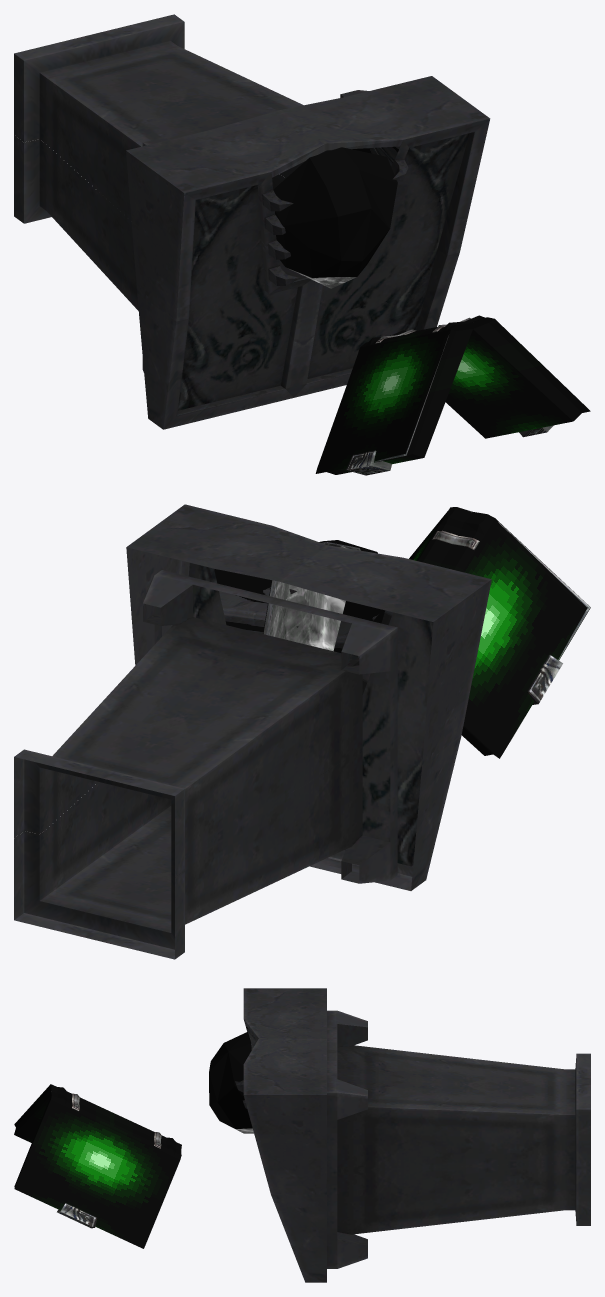
The model's file is world_mofashutai_3.obj.
The picture shows the model from 3 angles, top to bottom: view 1: azimuth 30°, elevation 25°; view 2: azimuth 150°, elevation 25°; view 3: azimuth 270°, elevation 25°; orthographic projection. The views are drawn at different scales.
Parts seen in each view (by area): view 1: world_mofashutai_3, Object02, ke2, Object01; view 2: world_mofashutai_3, Object02, Object01; view 3: world_mofashutai_3, Object02, ke2, Object01.
Boxes of the visible parts, x1=… form: world_mofashutai_3: x1=14, y1=14, x2=490, y2=429; Object02: x1=315, y1=315, x2=590, y2=474; ke2: x1=273, y1=147, x2=397, y2=277; Object01: x1=346, y1=317, x2=553, y2=475; world_mofashutai_3: x1=14, y1=504, x2=491, y2=959; Object02: x1=409, y1=507, x2=590, y2=758; Object01: x1=432, y1=511, x2=590, y2=704; world_mofashutai_3: x1=235, y1=988, x2=590, y2=1282; Object02: x1=14, y1=1084, x2=181, y2=1248; ke2: x1=209, y1=1032, x2=254, y2=1129; Object01: x1=51, y1=1091, x2=161, y2=1228.
Size of the model in its own units: 58.51 by 50.82 by 134.
